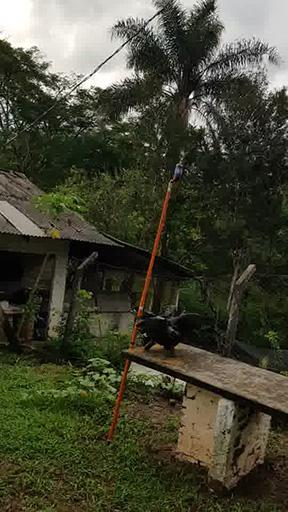Vara_Manobra: (109, 183, 172, 441)
